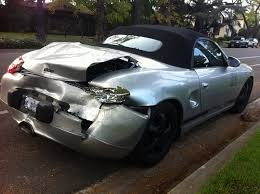Broken-glass: (87, 85, 130, 106)
Dent: (186, 90, 202, 108)
Smashed: (9, 41, 142, 157)
